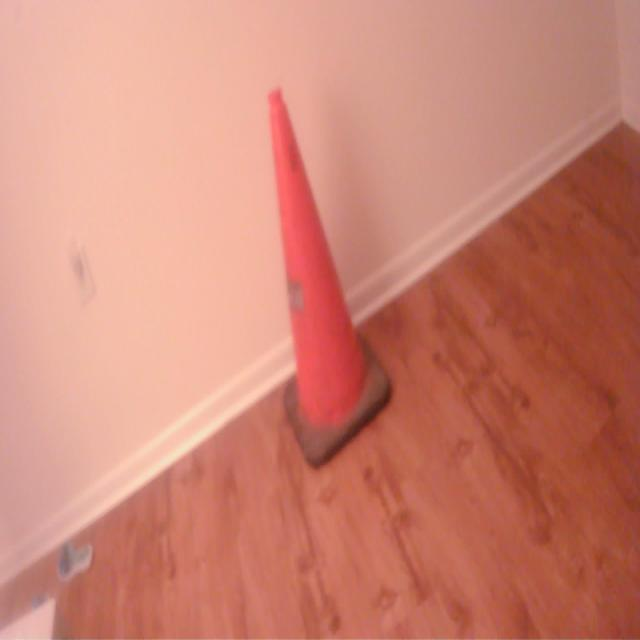traffic cone: (263, 82, 400, 478)
